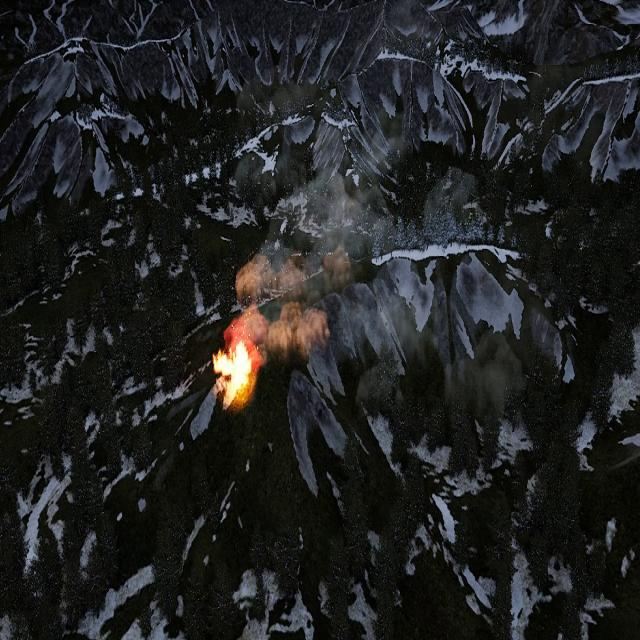fire: (213, 338, 253, 404)
smoke: (228, 74, 527, 417)
